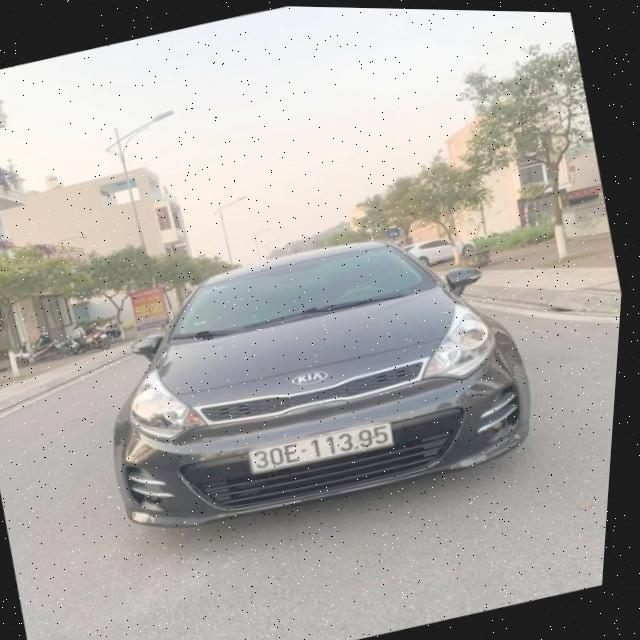car: (65, 194, 569, 563)
plate: (240, 408, 403, 489)
